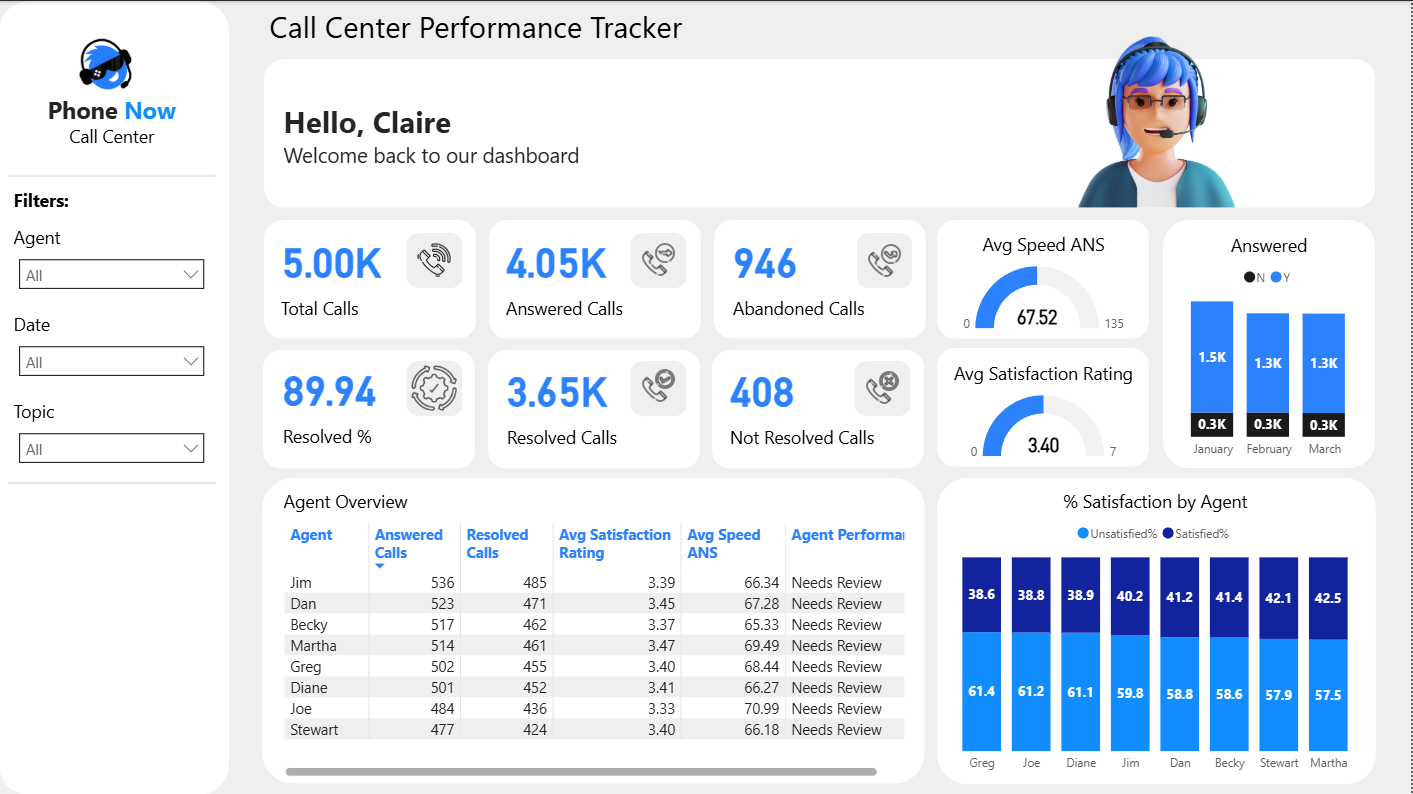

This screenshot's page, from the dashboard's own definition file:
{"tool":"powerbi","page":{"name":"Light Mode","canvas":[1280,720],"ordinal":1},"visuals":[{"type":"shape","box":[0,0,208.7,720],"z":0},{"type":"shape","box":[240.4,52.9,1007.6,134.8],"z":1000},{"type":"shape","box":[240.4,198.6,192.4,107.6],"z":2000},{"type":"shape","box":[444.7,198.6,192.4,107.6],"z":3000},{"type":"shape","box":[648,198.6,192.4,107.6],"z":4000},{"type":"shape","box":[850.2,198.5,192.3,107.7],"z":5000},{"type":"shape","box":[1055.9,198.5,192.3,225],"z":6000},{"type":"shape","box":[239.3,316.1,192.4,107.6],"z":7000},{"type":"shape","box":[443.6,316.1,192.4,107.6],"z":8000},{"type":"shape","box":[646.9,316.1,192.4,107.6],"z":9000},{"type":"shape","box":[850.2,314.9,192.3,107.7],"z":10000},{"type":"shape","box":[238.2,432.3,601.1,277.2],"z":11000},{"type":"shape","box":[850.2,432.2,398.1,277.9],"z":12000},{"type":"tableEx","title":"Agent Overview","fields":{"Values":["callcenter.Agent","callcenter.Resolved_Clean","callcenter.Resolved Yes","callcenter.Satisfaction rating","callcenter.Speed of answer in seconds","callcenter.Agent Performance"]},"box":[253.1,442.8,573.1,266.3],"z":13000},{"type":"cardVisual","title":"Total Calls ","fields":{"Data":["callcenter.Call Id"]},"box":[238.6,198.5,193.3,107.7],"z":14000},{"type":"cardVisual","title":"# of Answered ","fields":{"Data":["callcenter.Resolved_Clean"]},"box":[442.5,198.5,192.3,107.7],"z":15000},{"type":"cardVisual","title":"Abandoned Calls","fields":{"Data":["callcenter.Answered (Y/N)"]},"box":[648.2,198.5,191.3,107.7],"z":16000},{"type":"shape","box":[778.1,210.1,50,50],"z":17000},{"type":"shape","box":[573.2,210.1,50,50],"z":18000},{"type":"shape","box":[370.4,210.1,50,50],"z":19000},{"type":"cardVisual","title":"# of Not Resolved ","fields":{"Data":["callcenter.Resolved_Clean"]},"box":[645.4,315.8,192.3,107.7],"z":20000},{"type":"cardVisual","title":"# of Resolved  ","fields":{"Data":["callcenter.Resolved_Clean"]},"box":[443.4,315.8,191.3,107.7],"z":21000},{"type":"shape","box":[776.1,326.4,50,50],"z":22000},{"type":"shape","box":[573.2,326.4,50,50],"z":23000},{"type":"cardVisual","title":"# of Agents ","fields":{"Data":["callcenter.Resolved %"]},"box":[240.6,313.9,191.3,109.6],"z":24000},{"type":"shape","box":[370.4,326.4,50,50],"z":25000},{"type":"gauge","fields":{"Y":["callcenter.Satisfaction rating"]},"box":[851.1,326.4,191.3,96.2],"z":26000},{"type":"gauge","title":"Avg Speed ANS","fields":{"Y":["callcenter.Speed of answer in seconds"]},"box":[851.1,209.1,191.3,97.1],"z":27000},{"type":"columnChart","title":"Answered","fields":{"Y":["callcenter.Call Id"],"Category":["callcenter.Date&Time.Variation.Date Hierarchy.Month"],"Series":["callcenter.Answered (Y/N)"]},"box":[1055.9,210.1,192.3,213.5],"z":28000},{"type":"columnChart","title":"% Satisfaction by Agent","fields":{"Y":["callcenter.Unsatisfied%","callcenter.Satisfied%"],"Category":["callcenter.Agent"]},"box":[850.2,442.8,396.2,266.3],"z":29000},{"type":"slicer","title":"Topic","fields":{"Values":["callcenter.Topic"]},"box":[8.1,361.1,188.5,63.5],"z":30000},{"type":"slicer","title":"Agent","fields":{"Values":["callcenter.Agent"]},"box":[8.1,203.4,188.5,63.5],"z":31000},{"type":"slicer","title":"Date ","fields":{"Values":["callcenter.Date&Time.Variation.Date Hierarchy.Month"]},"box":[8.1,282.2,188.5,63.5],"z":32000},{"type":"textbox","title":"Call Center Performance Tracker ","box":[240.4,0,560.6,52.9],"z":33000},{"type":"textbox","title":"Call Center Performance Tracker ","box":[253.1,86,560.6,101.9],"z":34000},{"type":"image","box":[374.3,214.9,40.3,40.3],"z":35000},{"type":"image","box":[578.5,214.9,39.4,39.4],"z":36000},{"type":"image","box":[783.6,215.8,39.4,39.4],"z":37000},{"type":"image","box":[578.5,329.6,39.4,39.4],"z":39000},{"type":"image","box":[781.8,331.3,39.4,39.4],"z":40000},{"type":"image","box":[968.1,26.9,161.2,164.8],"z":41000},{"type":"image","box":[68.1,26.9,57.3,59.1],"z":42000},{"type":"textbox","title":"Call Center Performance Tracker ","box":[8.1,78.8,188.1,60.9],"z":43000},{"type":"textbox","title":"Call Center Performance Tracker ","box":[8.1,165,188.1,37.6],"z":44000},{"type":"shape","box":[8.1,148.9,188.1,19.7],"z":45000},{"type":"shape","box":[8.1,427.2,188.1,19.7],"z":46000},{"type":"image","box":[369.1,325.5,50.8,50.8],"z":46001}]}

Visuals, with their boxes in screenshot pixels (x1, y1, x2, y2), scaled from the page's 1280x720 canvas onto the 1413x794 screenshot:
shape: {"left": 0, "top": 0, "right": 230, "bottom": 793}
shape: {"left": 265, "top": 58, "right": 1378, "bottom": 207}
shape: {"left": 265, "top": 219, "right": 478, "bottom": 338}
shape: {"left": 491, "top": 219, "right": 703, "bottom": 338}
shape: {"left": 715, "top": 219, "right": 928, "bottom": 338}
shape: {"left": 939, "top": 219, "right": 1151, "bottom": 338}
shape: {"left": 1166, "top": 219, "right": 1378, "bottom": 467}
shape: {"left": 264, "top": 349, "right": 477, "bottom": 467}
shape: {"left": 490, "top": 349, "right": 702, "bottom": 467}
shape: {"left": 714, "top": 349, "right": 927, "bottom": 467}
shape: {"left": 939, "top": 347, "right": 1151, "bottom": 466}
shape: {"left": 263, "top": 477, "right": 927, "bottom": 782}
shape: {"left": 939, "top": 477, "right": 1378, "bottom": 783}
"Agent Overview" tableEx: {"left": 279, "top": 488, "right": 912, "bottom": 782}
"Total Calls " cardVisual: {"left": 263, "top": 219, "right": 477, "bottom": 338}
"# of Answered " cardVisual: {"left": 488, "top": 219, "right": 701, "bottom": 338}
"Abandoned Calls" cardVisual: {"left": 716, "top": 219, "right": 927, "bottom": 338}
shape: {"left": 859, "top": 232, "right": 914, "bottom": 287}
shape: {"left": 633, "top": 232, "right": 688, "bottom": 287}
shape: {"left": 409, "top": 232, "right": 464, "bottom": 287}
"# of Not Resolved " cardVisual: {"left": 712, "top": 348, "right": 925, "bottom": 467}
"# of Resolved  " cardVisual: {"left": 489, "top": 348, "right": 701, "bottom": 467}
shape: {"left": 857, "top": 360, "right": 912, "bottom": 415}
shape: {"left": 633, "top": 360, "right": 688, "bottom": 415}
"# of Agents " cardVisual: {"left": 266, "top": 346, "right": 477, "bottom": 467}
shape: {"left": 409, "top": 360, "right": 464, "bottom": 415}
gauge - callcenter.Satisfaction rating: {"left": 940, "top": 360, "right": 1151, "bottom": 466}
"Avg Speed ANS" gauge: {"left": 940, "top": 231, "right": 1151, "bottom": 338}
"Answered" columnChart: {"left": 1166, "top": 232, "right": 1378, "bottom": 467}
"% Satisfaction by Agent" columnChart: {"left": 939, "top": 488, "right": 1376, "bottom": 782}
"Topic" slicer: {"left": 9, "top": 398, "right": 217, "bottom": 468}
"Agent" slicer: {"left": 9, "top": 224, "right": 217, "bottom": 294}
"Date " slicer: {"left": 9, "top": 311, "right": 217, "bottom": 381}
"Call Center Performance Tracker " textbox: {"left": 265, "top": 0, "right": 884, "bottom": 58}
"Call Center Performance Tracker " textbox: {"left": 279, "top": 95, "right": 898, "bottom": 207}
image: {"left": 413, "top": 237, "right": 458, "bottom": 281}
image: {"left": 639, "top": 237, "right": 682, "bottom": 280}
image: {"left": 865, "top": 238, "right": 909, "bottom": 281}
image: {"left": 639, "top": 363, "right": 682, "bottom": 407}
image: {"left": 863, "top": 365, "right": 907, "bottom": 409}
image: {"left": 1069, "top": 30, "right": 1247, "bottom": 211}
image: {"left": 75, "top": 30, "right": 138, "bottom": 95}
"Call Center Performance Tracker " textbox: {"left": 9, "top": 87, "right": 217, "bottom": 154}
"Call Center Performance Tracker " textbox: {"left": 9, "top": 182, "right": 217, "bottom": 223}
shape: {"left": 9, "top": 164, "right": 217, "bottom": 186}
shape: {"left": 9, "top": 471, "right": 217, "bottom": 493}
image: {"left": 407, "top": 359, "right": 464, "bottom": 415}
